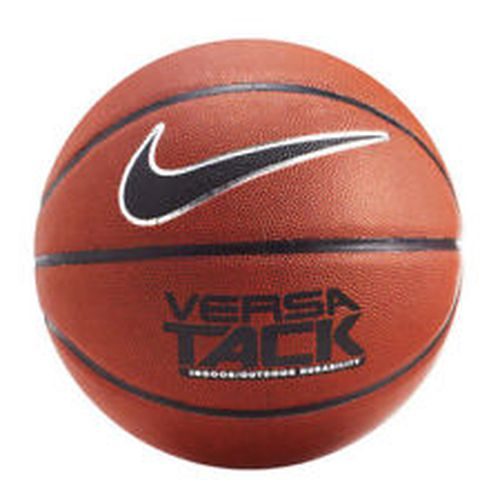ball: (37, 44, 454, 468)
